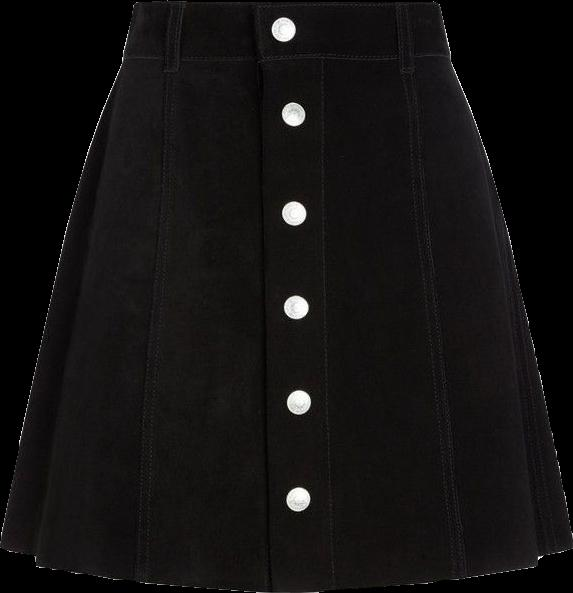Hemline: (0, 540, 572, 590)
Waistline: (117, 50, 449, 63), (132, 0, 433, 9)
